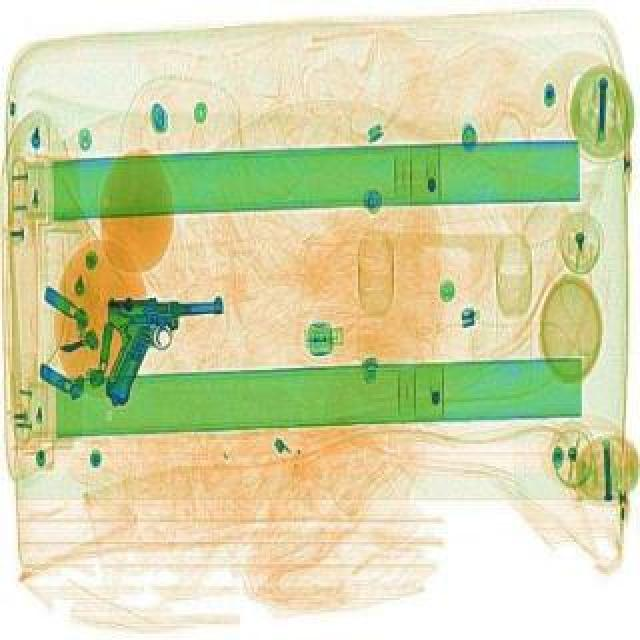gun: (90, 282, 242, 406)
